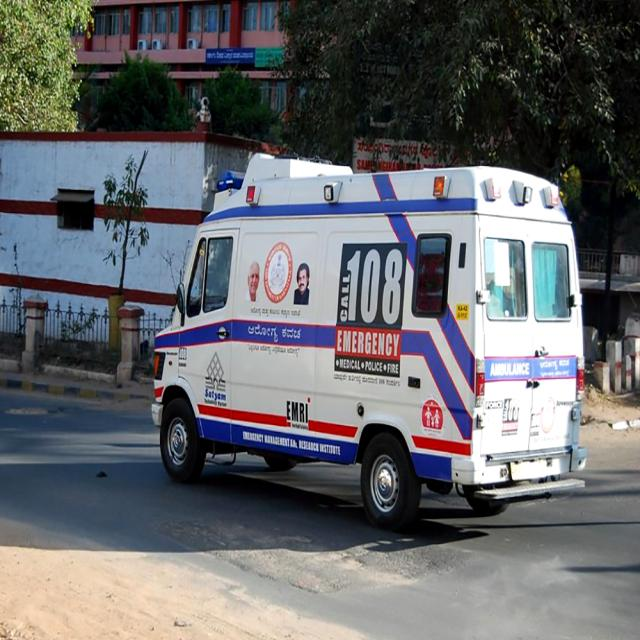Ambulance: (162, 154, 607, 549)
